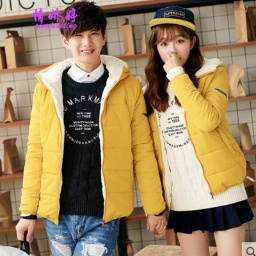face: (143, 23, 202, 82), (57, 1, 108, 64)
